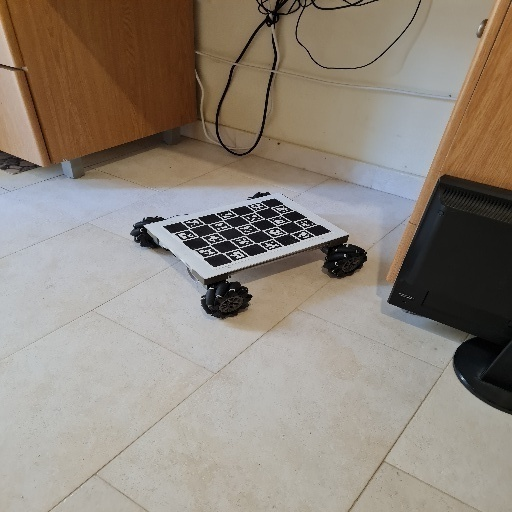Omniwheel: (130, 191, 368, 320)
